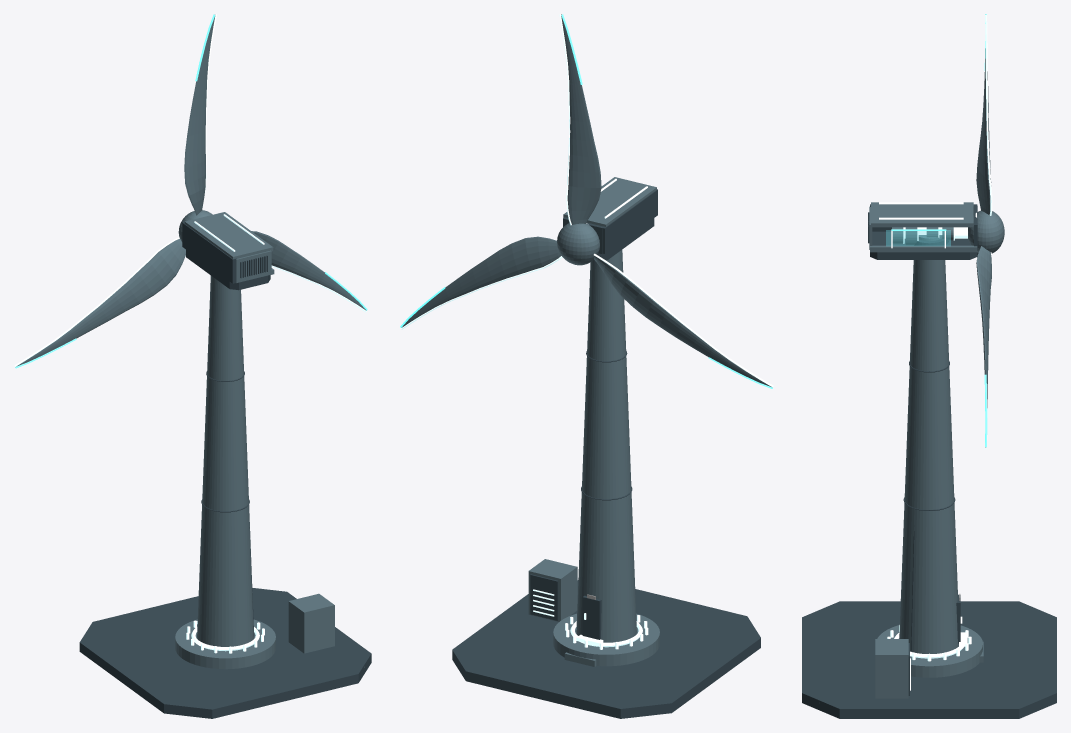
Rendered from wind_turbine.glb.
The picture shows the model from 3 angles, left to right: view 1: azimuth 30°, elevation 25°; view 2: azimuth 150°, elevation 25°; view 3: azimuth 270°, elevation 25°; orthographic projection. The views are drawn at different scales.
Parts seen in each view (by area): view 1: wind_turbine_graphite_light, wind_turbine_graphite, wind_turbine_white; view 2: wind_turbine_graphite_light, wind_turbine_graphite, wind_turbine_white; view 3: wind_turbine_graphite_light, wind_turbine_graphite, wind_turbine_white, wind_turbine_glass.
Boxes of the visible parts, <box> form: wind_turbine_graphite_light: <box>16,16,366,669</box>; wind_turbine_graphite: <box>79,222,371,718</box>; wind_turbine_white: <box>14,14,366,653</box>; wind_turbine_graphite_light: <box>401,14,771,666</box>; wind_turbine_graphite: <box>452,189,760,718</box>; wind_turbine_white: <box>401,14,773,649</box>; wind_turbine_graphite_light: <box>869,48,1004,698</box>; wind_turbine_graphite: <box>802,204,1056,718</box>; wind_turbine_white: <box>879,15,992,690</box>; wind_turbine_glass: <box>886,230,950,245</box>.
Size of the model in its own units: 14.97 by 25.11 by 8.8.
